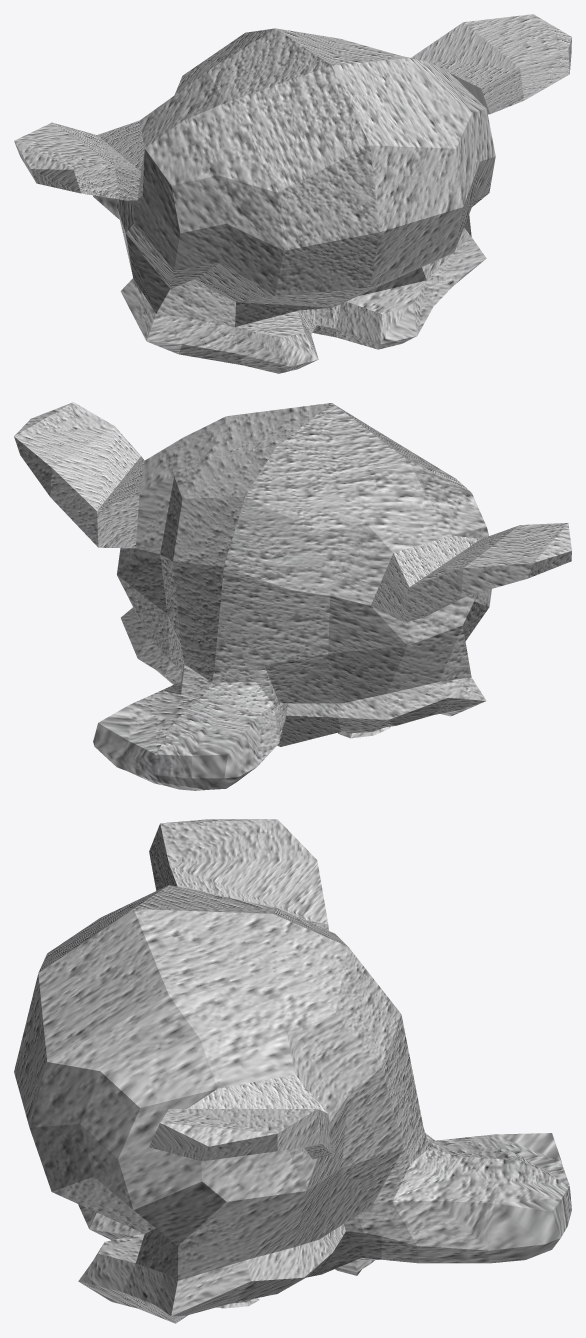
File: scimmia.obj
3 views of the same model, one above another, from view 1: azimuth 30°, elevation 25°; view 2: azimuth 150°, elevation 25°; view 3: azimuth 270°, elevation 25° (orthographic). The views are drawn at different scales.
Parts seen in each view (by area): view 1: Scimmia; view 2: Scimmia; view 3: Scimmia.
Part boxes in pixels (x1,y1,x2,y2): Scimmia: (14,14,571,373); Scimmia: (14,402,571,790); Scimmia: (14,819,571,1323).
Size of the model in its own units: 2.71 by 1.38 by 1.95.
Materials: 1 (1 with a texture image).
